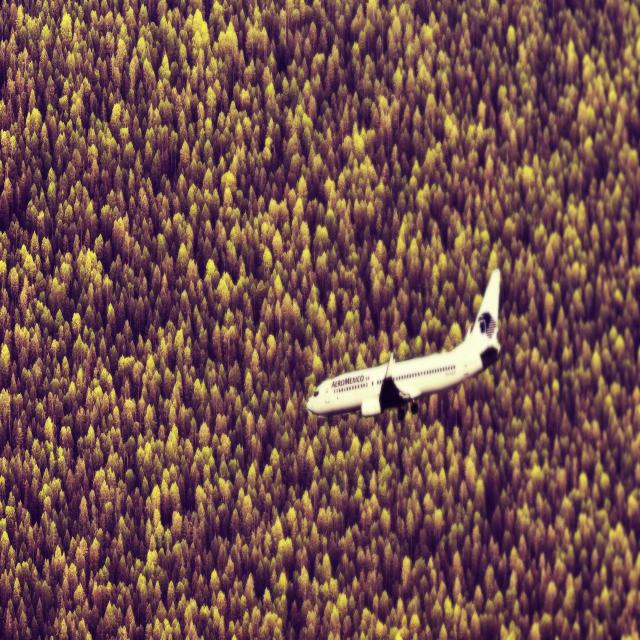airplane: (305, 267, 501, 422)
